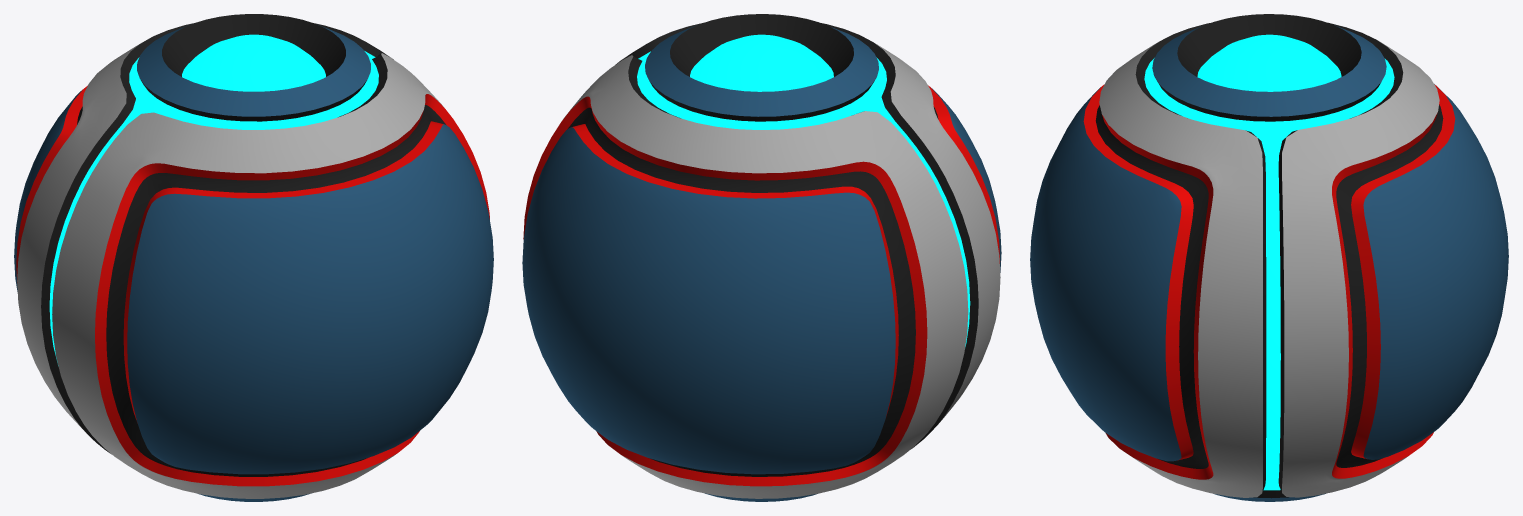
File: Ball Size fixed.fbx
3 renders of one model, left to right at view 1: azimuth 30°, elevation 25°; view 2: azimuth 150°, elevation 25°; view 3: azimuth 270°, elevation 25°, orthographic.
Visible parts, largest first — view 1: ball; view 2: ball; view 3: ball.
Boxes of the visible parts, bbox=[...] form: ball: bbox=[14, 14, 493, 501]; ball: bbox=[522, 14, 1001, 501]; ball: bbox=[1030, 14, 1508, 501].
Bounding box in the file's own units: 111 × 109 × 110.
